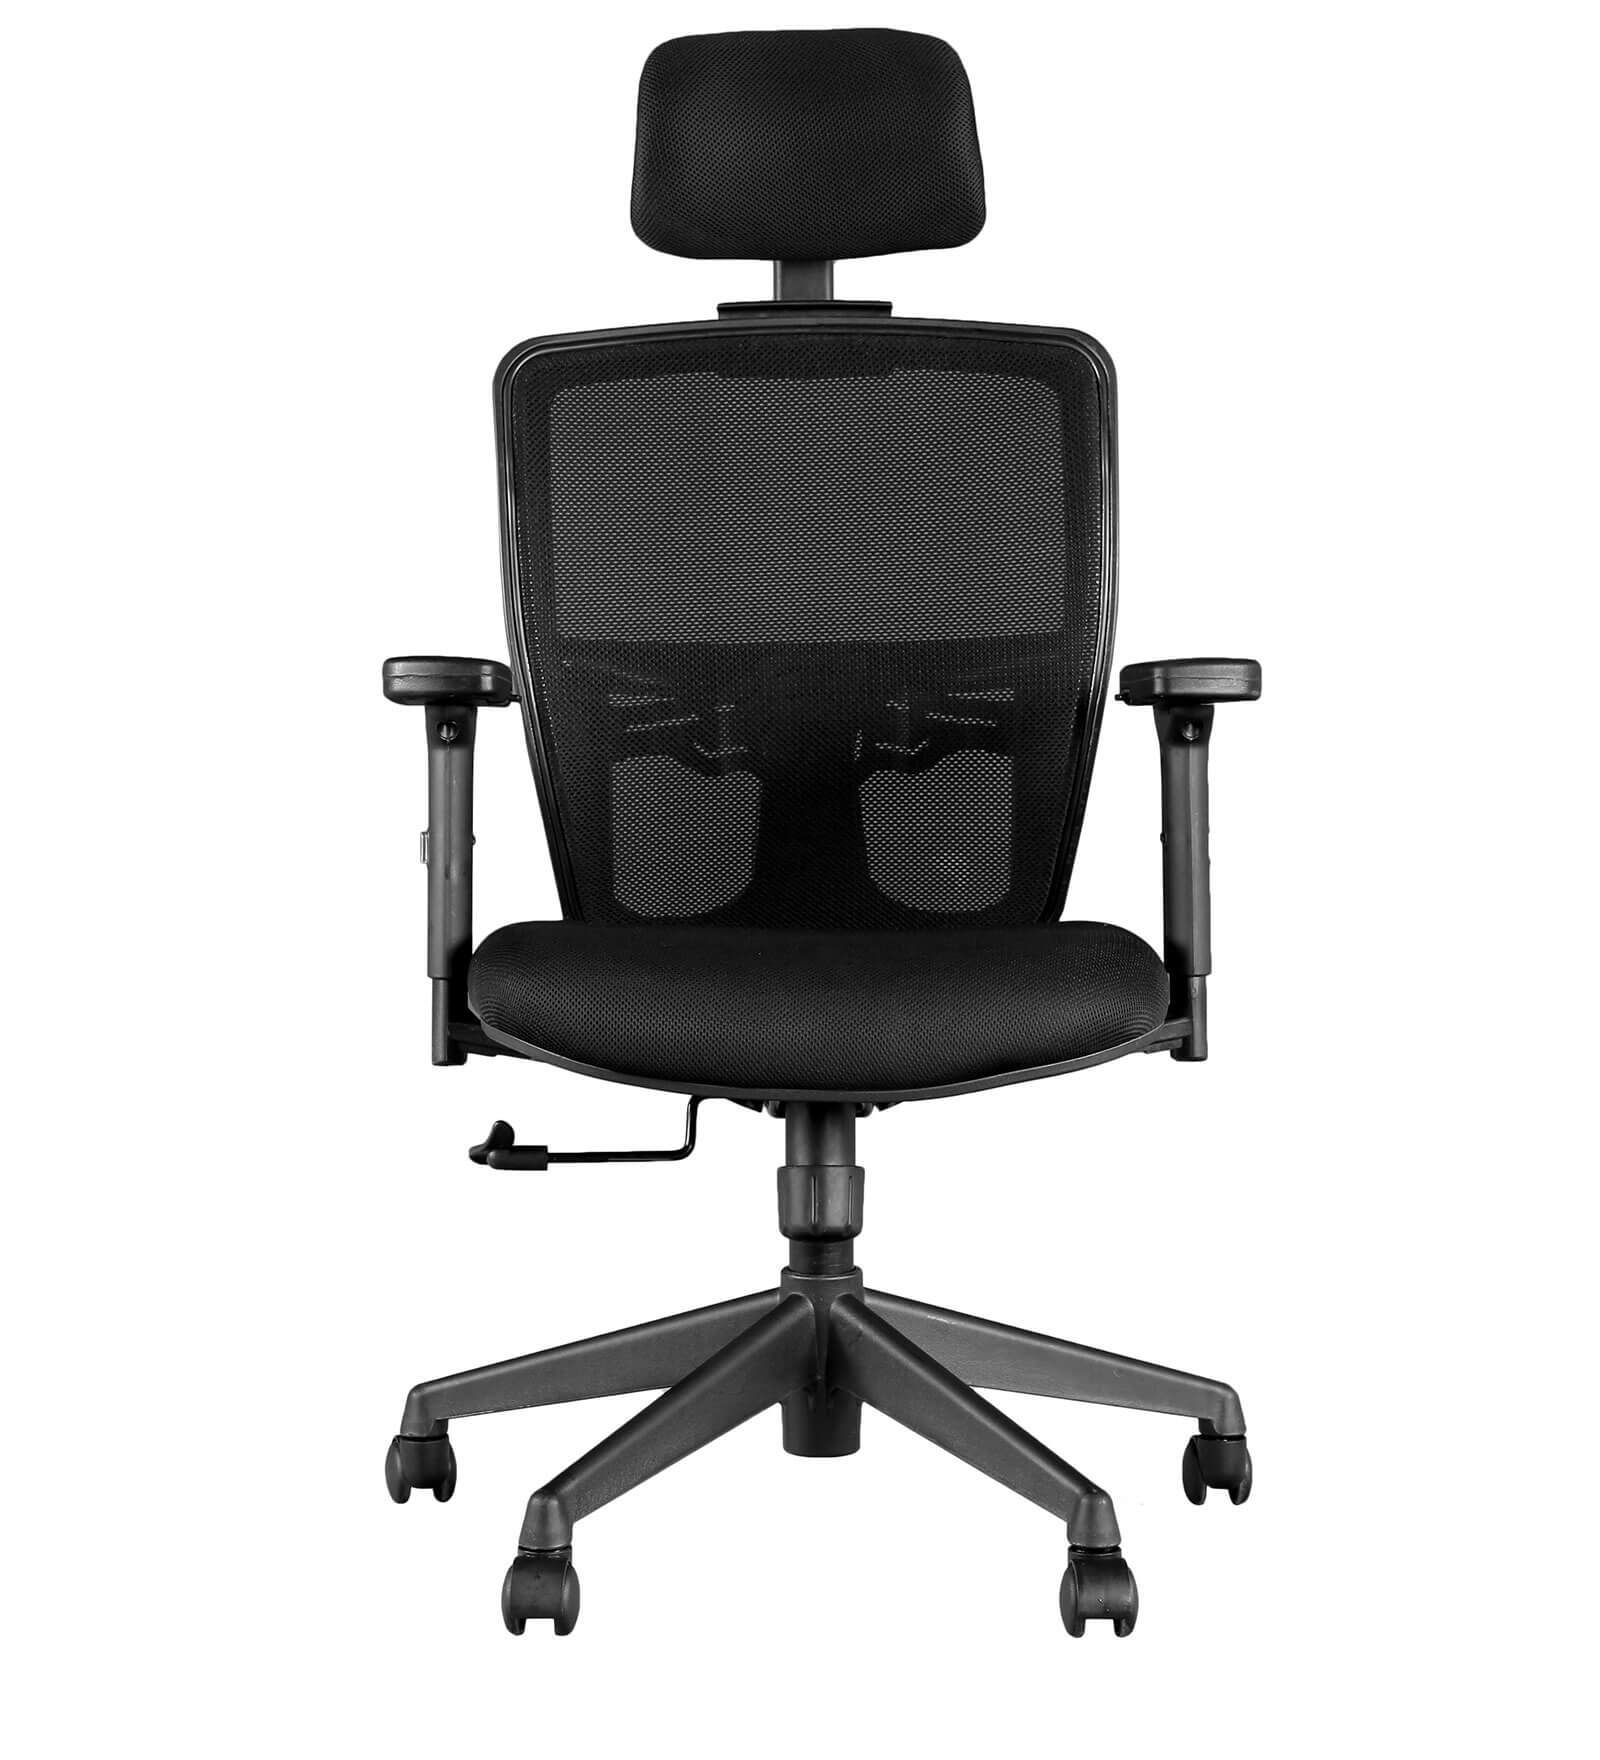Aspire High Back Ergonomic Chair in Black Colour by HomeTown: (336, 26, 1303, 1688)
